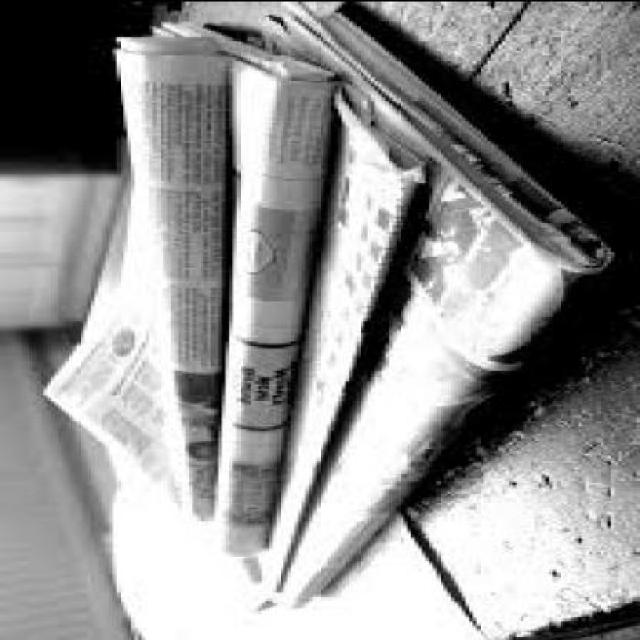PAPER: (258, 3, 618, 631), (243, 2, 429, 596), (146, 18, 334, 553), (40, 38, 218, 518)
